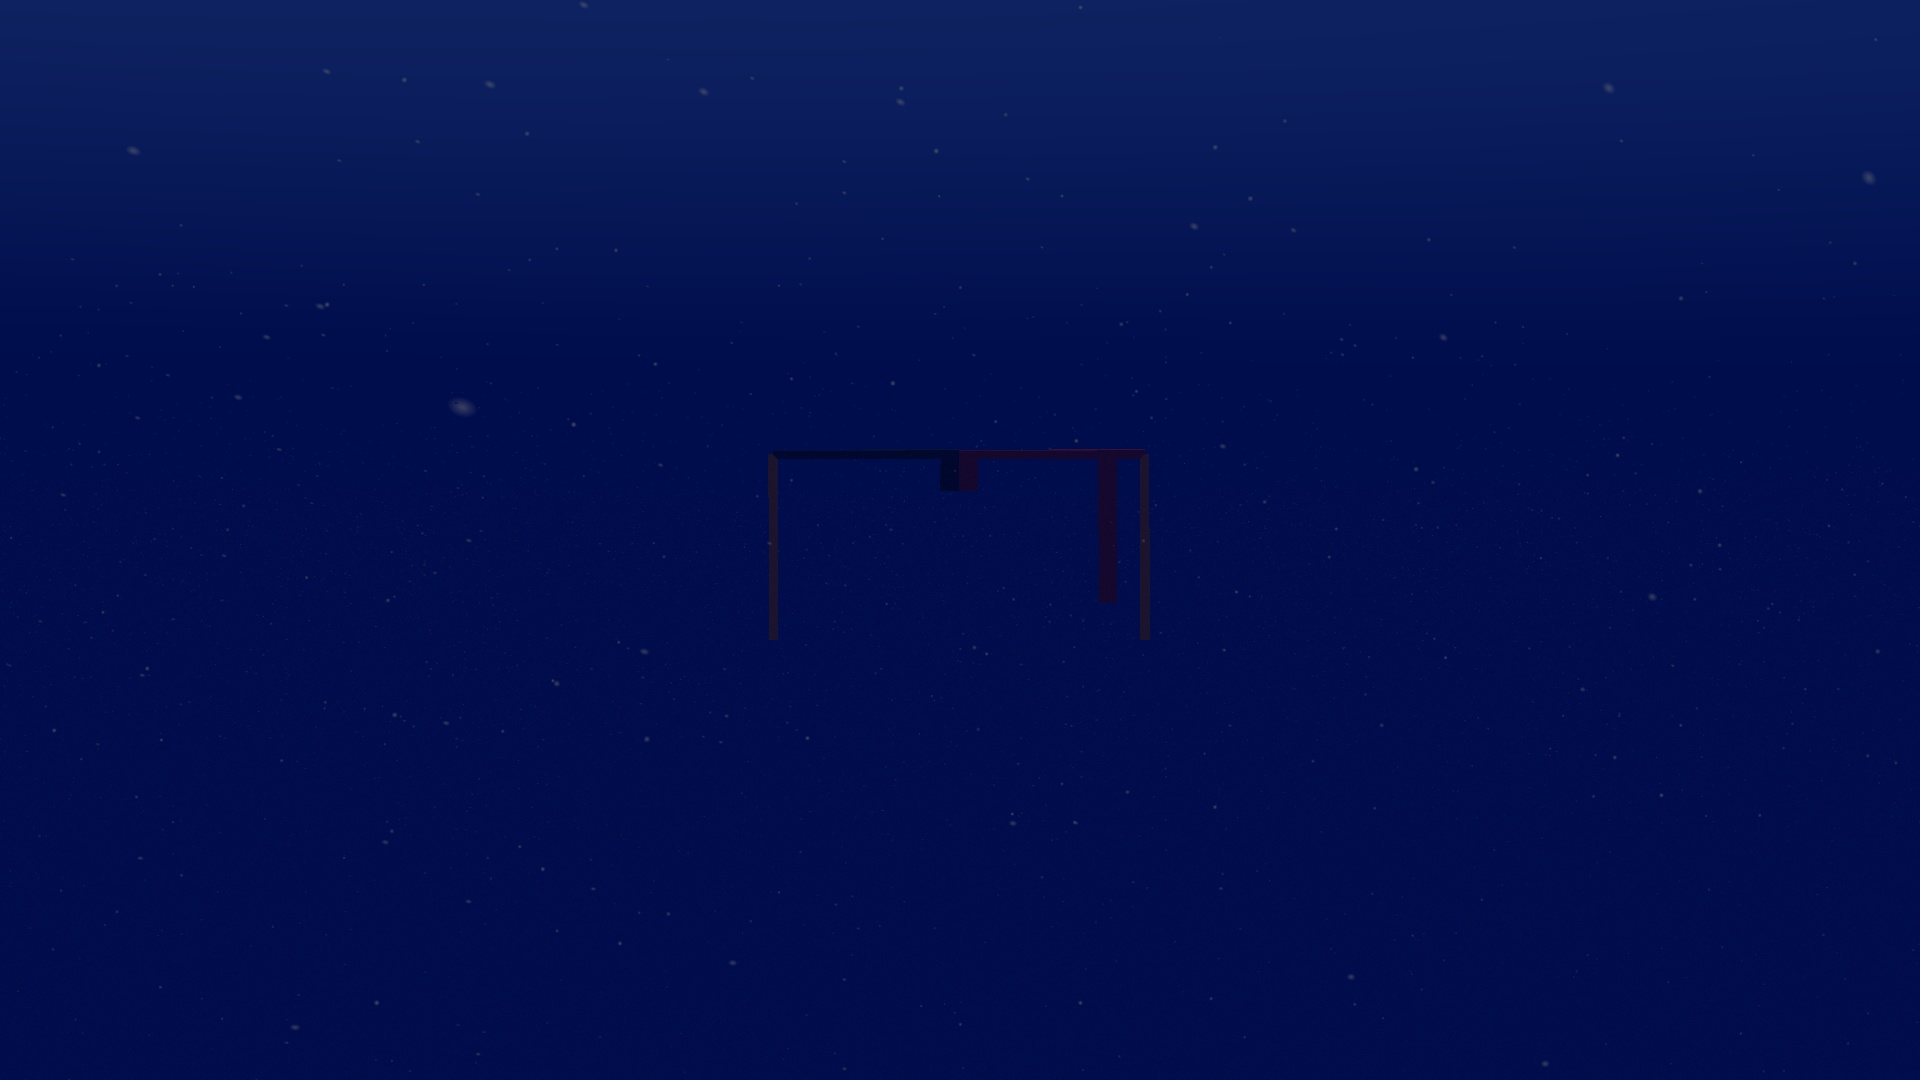Gate: (750, 439, 1162, 657)
